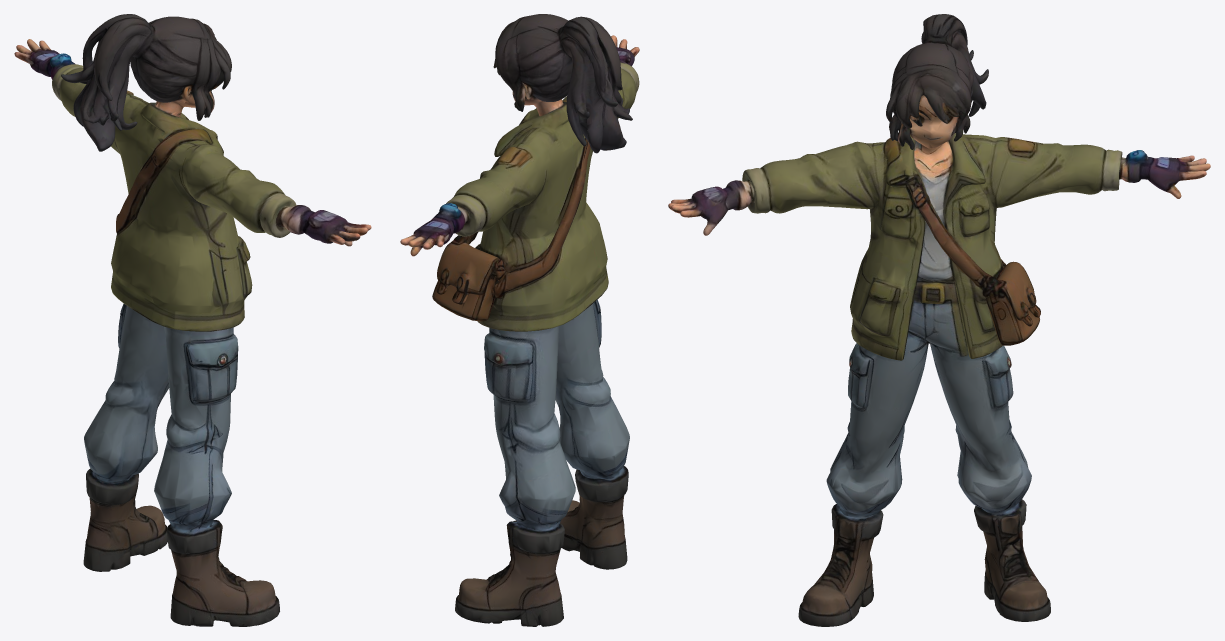
File: n2_story_sola.1c3e0038.glb
3 views of the same model, side by side, from view 1: azimuth 30°, elevation 25°; view 2: azimuth 150°, elevation 25°; view 3: azimuth 270°, elevation 25° (orthographic).
Parts seen in each view (by area): view 1: tripo_node_7d8b063d-09fe-4fbd-afb0-5359c737ccf0; view 2: tripo_node_7d8b063d-09fe-4fbd-afb0-5359c737ccf0; view 3: tripo_node_7d8b063d-09fe-4fbd-afb0-5359c737ccf0.
Part boxes in pixels (left/top/right/bottom): tripo_node_7d8b063d-09fe-4fbd-afb0-5359c737ccf0: left=14, top=14, right=371, bottom=626; tripo_node_7d8b063d-09fe-4fbd-afb0-5359c737ccf0: left=400, top=14, right=639, bottom=626; tripo_node_7d8b063d-09fe-4fbd-afb0-5359c737ccf0: left=668, top=14, right=1210, bottom=626.
Size of the model in its own units: 0.2991 by 0.9999 by 0.8577.
Materials: 1 (1 with a texture image).
